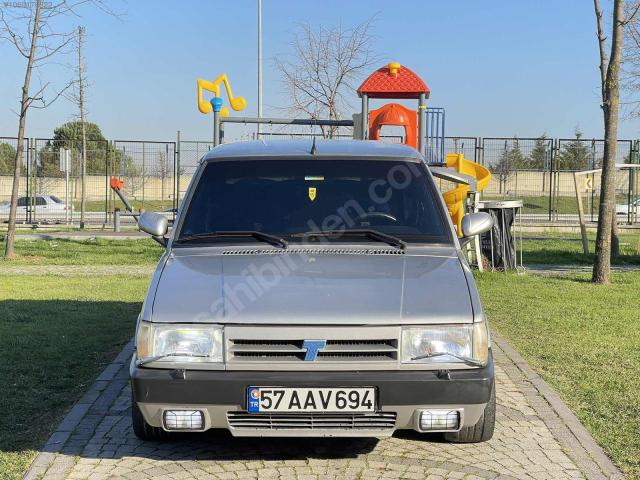plaka: (246, 387, 376, 412)
